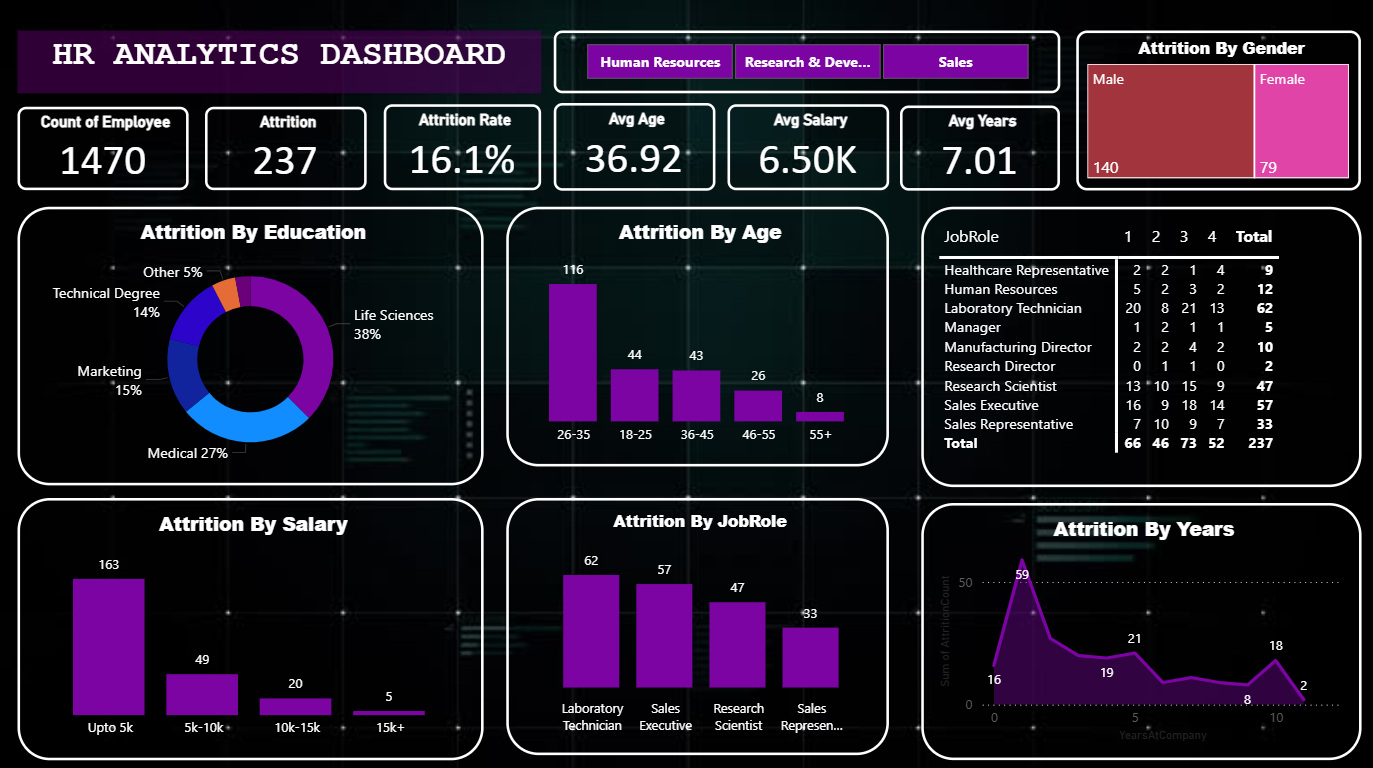

What the dashboard file says about the page in this screenshot:
{"tool":"powerbi","page":{"name":"Page 1","canvas":[1280,720],"ordinal":0},"visuals":[{"type":"card","title":"Count of Employee","fields":{"Values":["CountNonNull(HR_Analytics.EmpID)"]},"box":[16.3,101.2,159.3,77.9],"z":0},{"type":"card","title":"Attrition Rate","fields":{"Values":["HR_Analytics.AttritionRate"]},"box":[357,98.8,146.5,80.2],"z":1000},{"type":"card","title":"Avg Age","fields":{"Values":["Avg(HR_Analytics.Age)"]},"box":[515.1,97.7,150,81.4],"z":2000},{"type":"card","title":"Attrition","fields":{"Values":["Sum(HR_Analytics.AttritionCount)"]},"box":[190.7,101.2,150,77.9],"z":3000},{"type":"card","title":"Avg Salary","fields":{"Values":["Avg(HR_Analytics.MonthlyIncome)"]},"box":[676.7,98.8,150,80.2],"z":4000},{"type":"card","title":"Avg Years","fields":{"Values":["Avg(HR_Analytics.YearsAtCompany)"]},"box":[837.2,100,148.8,79.1],"z":5000},{"type":"donutChart","title":"Attrition By Education","fields":{"Category":["HR_Analytics.EducationField"],"Y":["Sum(HR_Analytics.AttritionCount)"]},"box":[16.3,194.2,433.7,259.3],"z":6000},{"type":"columnChart","title":"Attrition By Age","fields":{"Category":["HR_Analytics.AgeGroup"],"Y":["Sum(HR_Analytics.AttritionCount)"]},"box":[470.9,194.2,355.8,241.9],"z":7000},{"type":"pivotTable","fields":{"Rows":["HR_Analytics.JobRole"],"Columns":["HR_Analytics.JobSatisfaction"],"Values":["Sum(HR_Analytics.AttritionCount)"]},"box":[857,194.2,409.3,260.5],"z":8000},{"type":"columnChart","title":"Attrition By Salary","fields":{"Category":["HR_Analytics.SalarySlab"],"Y":["Sum(HR_Analytics.AttritionCount)"]},"box":[16.3,465.1,433.7,244.2],"z":9000},{"type":"columnChart","title":"Attrition By JobRole","fields":{"Category":["HR_Analytics.JobRole"],"Y":["Sum(HR_Analytics.AttritionCount)"]},"box":[470.9,465.1,355.8,239.5],"z":10000},{"type":"areaChart","title":"Attrition By Years","fields":{"Category":["HR_Analytics.YearsAtCompany"],"Y":["Sum(HR_Analytics.AttritionCount)"]},"box":[857,469.8,409.3,239.5],"z":11000},{"type":"treemap","title":"Attrition By Gender","fields":{"Group":["HR_Analytics.Gender"],"Values":["Sum(HR_Analytics.AttritionCount)"]},"box":[1001.2,30.2,265.1,148.8],"z":12000},{"type":"slicer","fields":{"Values":["HR_Analytics.Department"]},"box":[515.1,30.2,470.9,58.1],"z":13000},{"type":"textbox","box":[16.3,30.2,487.2,58.1],"z":14000}]}

Visuals, with their boxes in screenshot pixels (x1, y1, x2, y2), scaled from the page's 1280x720 canvas onto the 1373x768 screenshot:
"Count of Employee" card: [17, 108, 188, 191]
"Attrition Rate" card: [383, 105, 540, 191]
"Avg Age" card: [553, 104, 713, 191]
"Attrition" card: [205, 108, 365, 191]
"Avg Salary" card: [726, 105, 887, 191]
"Avg Years" card: [898, 107, 1058, 191]
"Attrition By Education" donutChart: [17, 207, 483, 484]
"Attrition By Age" columnChart: [505, 207, 887, 465]
pivotTable - HR_Analytics.JobRole x HR_Analytics.JobSatisfaction: [919, 207, 1358, 485]
"Attrition By Salary" columnChart: [17, 496, 483, 757]
"Attrition By JobRole" columnChart: [505, 496, 887, 752]
"Attrition By Years" areaChart: [919, 501, 1358, 757]
"Attrition By Gender" treemap: [1074, 32, 1358, 191]
slicer - HR_Analytics.Department: [553, 32, 1058, 94]
textbox: [17, 32, 540, 94]
